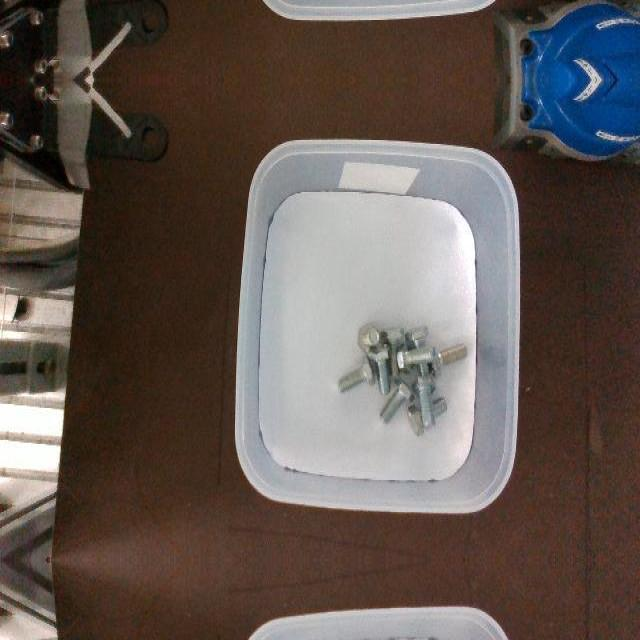screw: (380, 374, 414, 424), (337, 356, 375, 394), (411, 374, 435, 430), (397, 340, 436, 372)
